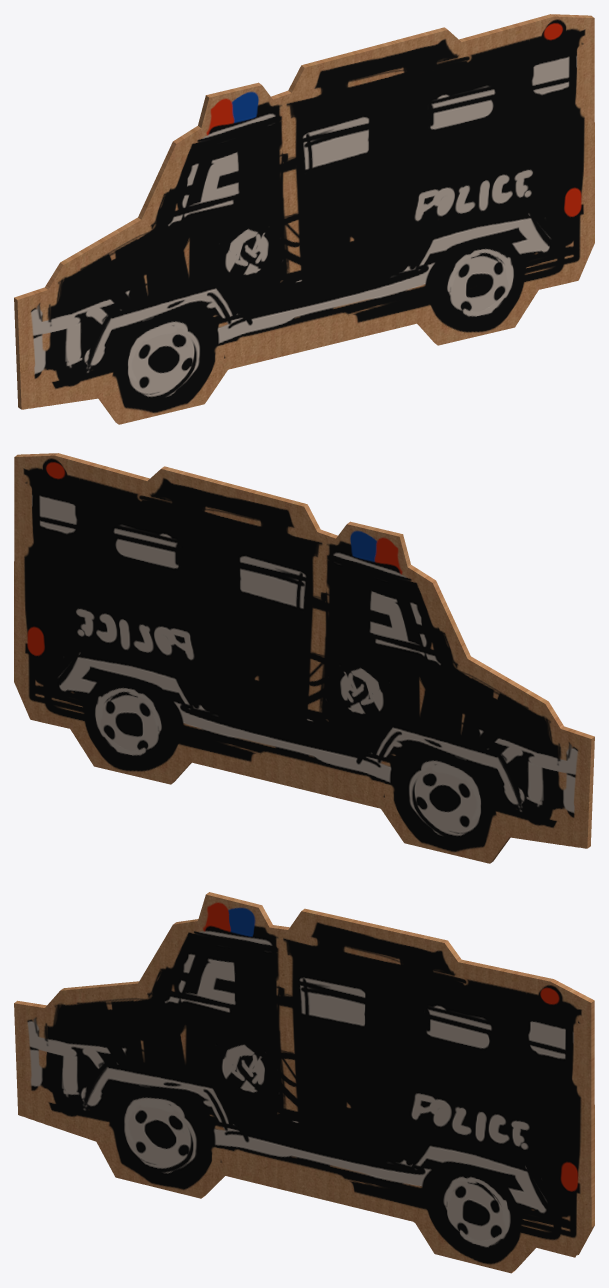
The model's file is car_2.FBX.
3 views of the same model, one above another, from view 1: azimuth 30°, elevation 25°; view 2: azimuth 150°, elevation 25°; view 3: azimuth 330°, elevation 25° (orthographic).
Parts seen in each view (by area): view 1: Line008; view 2: Line008; view 3: Line008.
Part boxes in pixels (x1=…): Line008: x1=14, y1=14, x2=594, y2=424; Line008: x1=14, y1=453, x2=594, y2=863; Line008: x1=14, y1=892, x2=594, y2=1273.
Bounding box in the file's own units: 675 × 352 × 7.
1 material, 1 textured.
